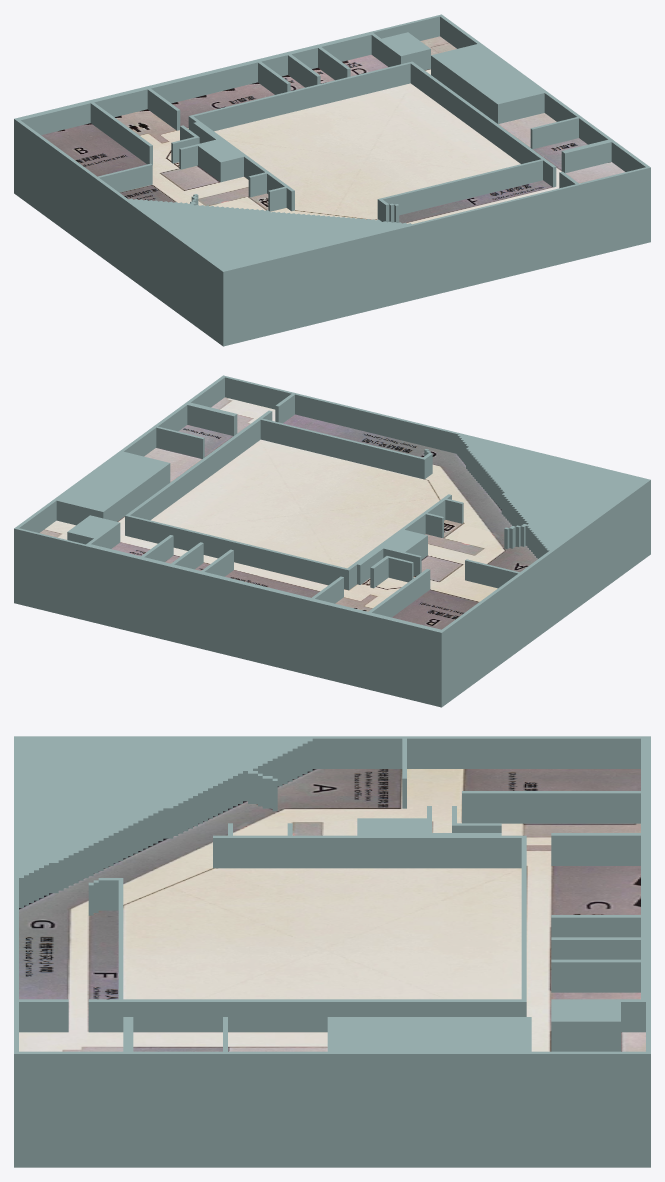
The model's file is Dah-Hsian-Library-8F-cube.glb.
3 views of the same model, one above another, from view 1: azimuth 30°, elevation 25°; view 2: azimuth 150°, elevation 25°; view 3: azimuth 270°, elevation 25° (orthographic). The views are drawn at different scales.
Visible parts, largest first — view 1: Cube, Plane; view 2: Cube, Plane; view 3: Cube, Plane.
Part boxes in pixels (bbox=[...]): Cube: bbox=[14, 14, 650, 346]; Plane: bbox=[41, 36, 625, 224]; Cube: bbox=[14, 375, 650, 707]; Plane: bbox=[39, 397, 537, 629]; Cube: bbox=[14, 736, 650, 1167]; Plane: bbox=[19, 769, 645, 1051].
Size of the model in its own units: 18 by 3 by 15.25.
Materials: 2 (1 with a texture image).
